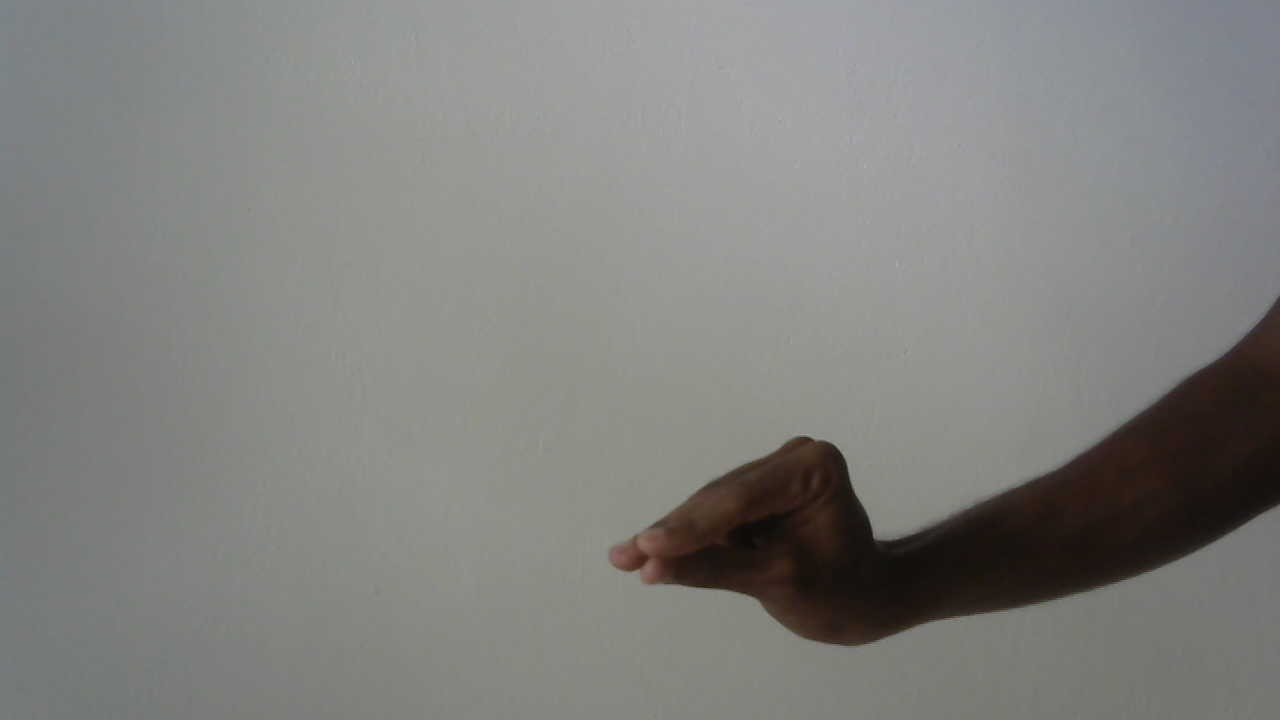no: (590, 419, 920, 679)
